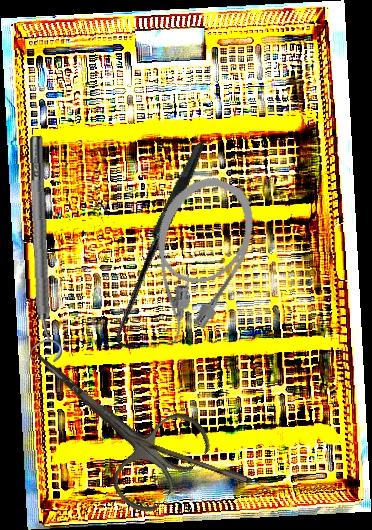Cannula: (120, 165, 269, 355)
Fixation Ring: (19, 134, 64, 364)
Hook Surgical: (53, 140, 274, 355)
Iris Scissors: (1, 311, 218, 522)
Surgical Spoon: (126, 434, 294, 500)
